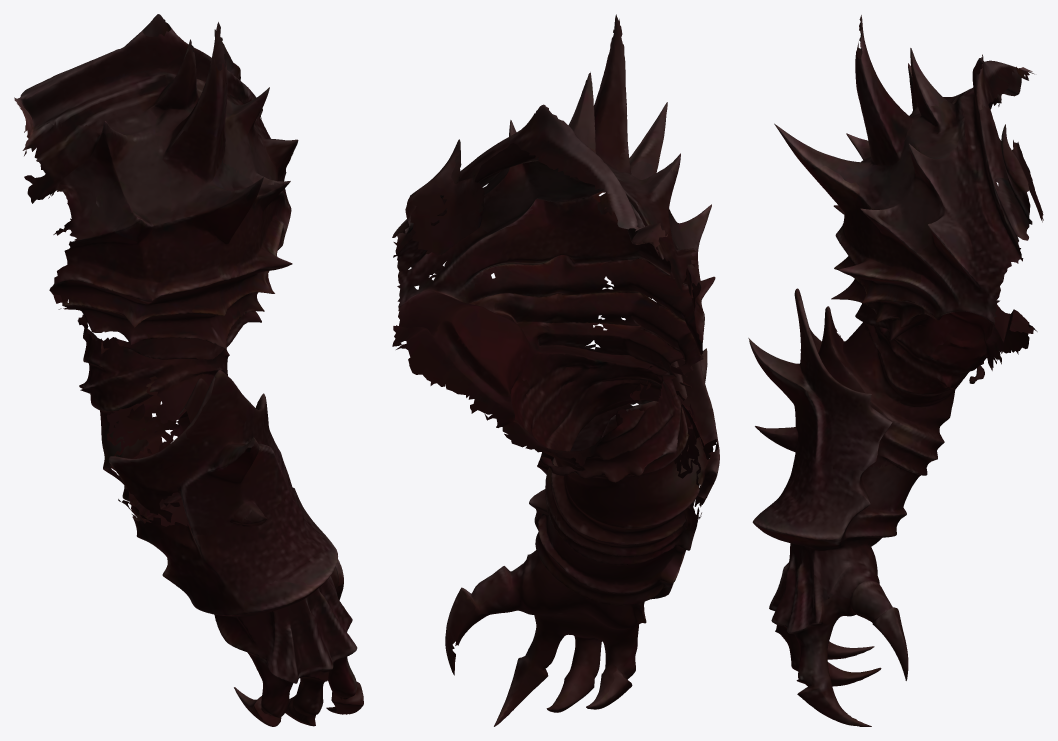
Rendered from brazo.glb.
The picture shows the model from 3 angles, left to right: view 1: azimuth 30°, elevation 25°; view 2: azimuth 150°, elevation 25°; view 3: azimuth 270°, elevation 25°; orthographic projection. The views are drawn at different scales.
Parts seen in each view (by area): view 1: tripo_node_194d52cf_tripo_mat_194d52cf_0.005, tripo_node_194d52cf_tripo_mat_194d52cf_0.006, tripo_node_194d52cf_tripo_mat_194d52cf_0.008, tripo_node_194d52cf_tripo_mat_194d52cf_0.007; view 2: tripo_node_194d52cf_tripo_mat_194d52cf_0.005, tripo_node_194d52cf_tripo_mat_194d52cf_0.008, tripo_node_194d52cf_tripo_mat_194d52cf_0.006, tripo_node_194d52cf_tripo_mat_194d52cf_0.007; view 3: tripo_node_194d52cf_tripo_mat_194d52cf_0.005, tripo_node_194d52cf_tripo_mat_194d52cf_0.006, tripo_node_194d52cf_tripo_mat_194d52cf_0.007, tripo_node_194d52cf_tripo_mat_194d52cf_0.008.
Part boxes in pixels (left/top/right/bottom): tripo_node_194d52cf_tripo_mat_194d52cf_0.005: left=49, top=22, right=343, bottom=722; tripo_node_194d52cf_tripo_mat_194d52cf_0.006: left=91, top=128, right=363, bottom=726; tripo_node_194d52cf_tripo_mat_194d52cf_0.008: left=14, top=14, right=295, bottom=499; tripo_node_194d52cf_tripo_mat_194d52cf_0.007: left=48, top=48, right=298, bottom=430; tripo_node_194d52cf_tripo_mat_194d52cf_0.005: left=445, top=14, right=719, bottom=712; tripo_node_194d52cf_tripo_mat_194d52cf_0.008: left=392, top=72, right=697, bottom=555; tripo_node_194d52cf_tripo_mat_194d52cf_0.006: left=494, top=102, right=719, bottom=726; tripo_node_194d52cf_tripo_mat_194d52cf_0.007: left=393, top=120, right=700, bottom=675; tripo_node_194d52cf_tripo_mat_194d52cf_0.005: left=754, top=15, right=994, bottom=683; tripo_node_194d52cf_tripo_mat_194d52cf_0.006: left=748, top=123, right=889, bottom=726; tripo_node_194d52cf_tripo_mat_194d52cf_0.007: left=890, top=63, right=1023, bottom=680; tripo_node_194d52cf_tripo_mat_194d52cf_0.008: left=910, top=48, right=1043, bottom=480.
Size of the model in its own units: 0.1841 by 0.4699 by 0.19.
Materials: 1 (1 with a texture image).
